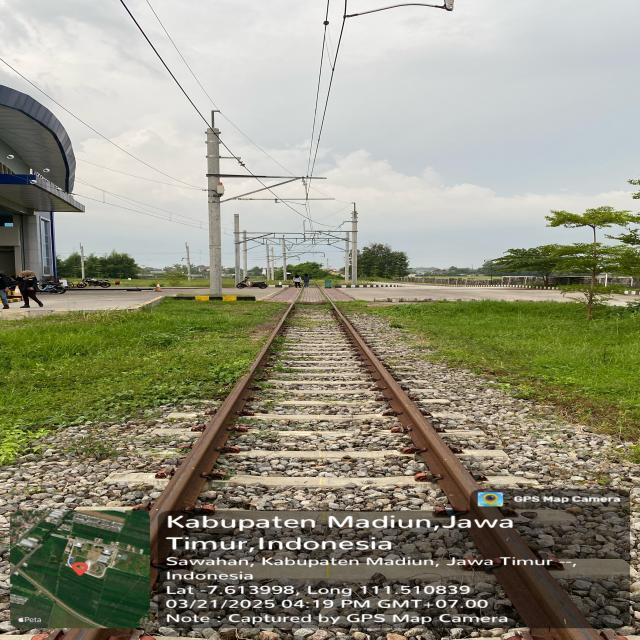rail-detection: (333, 305, 598, 640), (150, 308, 291, 585)
